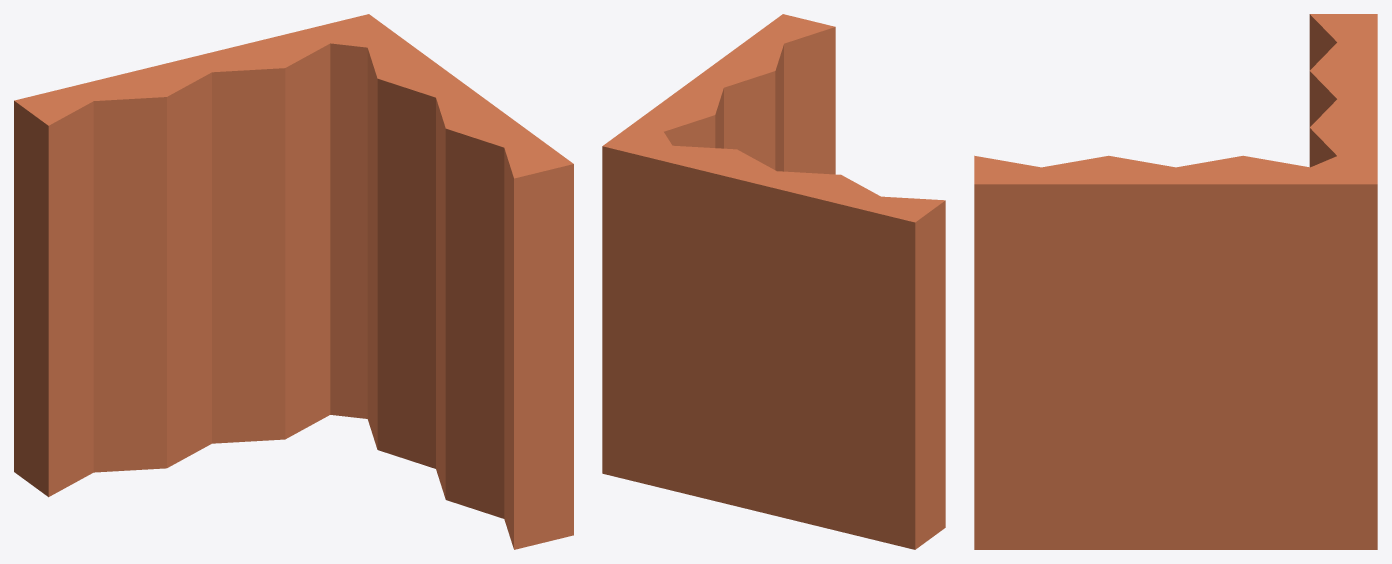
The model's file is cliff_cornerInner_rock.fbx.
3 renders of one model, left to right at view 1: azimuth 30°, elevation 25°; view 2: azimuth 150°, elevation 25°; view 3: azimuth 270°, elevation 25°, orthographic. The views are drawn at different scales.
Visible parts, largest first — view 1: cliff_cornerInner_rock; view 2: cliff_cornerInner_rock; view 3: cliff_cornerInner_rock.
Boxes of the visible parts, bbox=[...] form: cliff_cornerInner_rock: bbox=[14, 14, 573, 549]; cliff_cornerInner_rock: bbox=[602, 14, 945, 549]; cliff_cornerInner_rock: bbox=[974, 14, 1377, 549].
Bounding box in the file's own units: 10 × 10 × 10.
